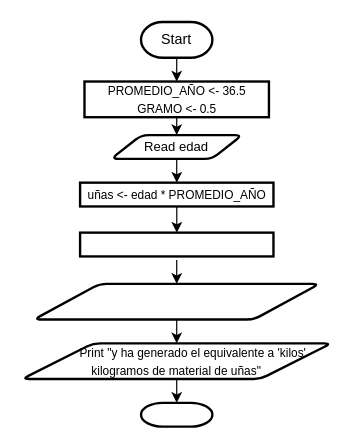
This 352x447 diagram has some shape labels left out. Here are the shapes that lost their labels. From the top down, the centre of each, then its label:
point (176, 244): kilos <- (uñas* GRAMOS) / 1000
point (176, 301): Print "Usted ha cortado sus uñas en promedio 'uñas' veces en su vida ' "
point (176, 414): Finish
